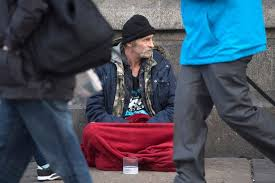no-mask: (121, 15, 157, 61)
